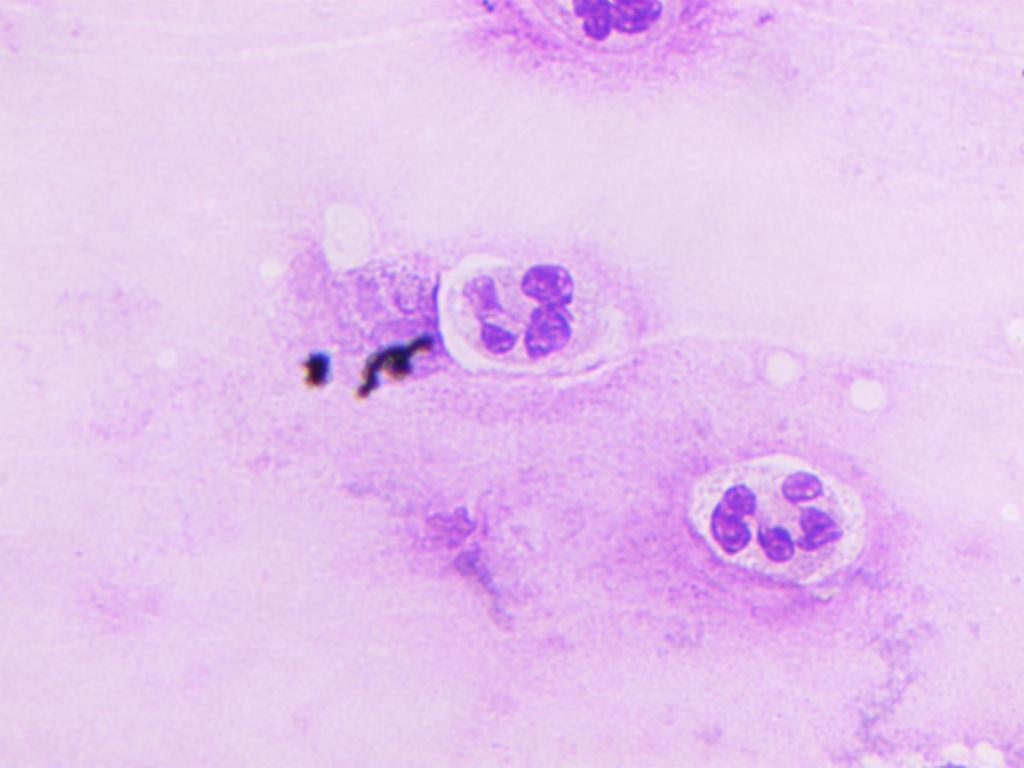artifact: (300, 324, 446, 422)
neutrophil: (425, 230, 660, 382), (674, 447, 874, 612), (502, 0, 728, 63)
